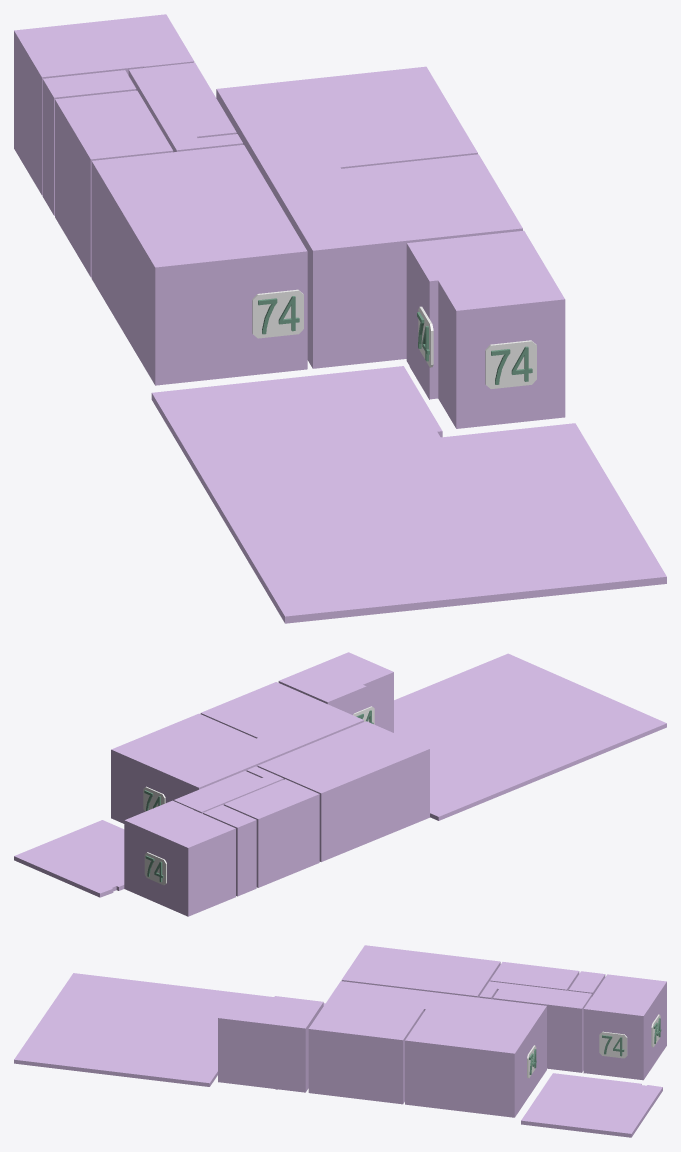
3 renders of one model, top to bottom at view 1: azimuth 30°, elevation 25°; view 2: azimuth 150°, elevation 25°; view 3: azimuth 270°, elevation 25°, orthographic. The views are drawn at different scales.
Parts seen in each view (by area): view 1: g_8, g_1, g_3, g_0, g_4, g_2, g_6, g_5, g_7, g_18, g_27; view 2: g_8, g_1, g_4, g_2, g_6, g_3, g_9, g_0, g_5, g_7, g_21; view 3: g_8, g_4, g_3, g_0, g_2, g_9, g_1, g_5, g_6, g_7, g_24.
Boxes of the visible parts, left/top/right/bottom form: g_8: left=151, top=366, right=666, bottom=623; g_1: left=91, top=144, right=307, bottom=385; g_3: left=267, top=154, right=522, bottom=368; g_0: left=406, top=230, right=565, bottom=428; g_4: left=216, top=66, right=477, bottom=183; g_2: left=14, top=14, right=194, bottom=195; g_6: left=55, top=90, right=173, bottom=277; g_5: left=128, top=62, right=242, bottom=152; g_7: left=42, top=70, right=136, bottom=215; g_18: left=485, top=340, right=536, bottom=388; g_27: left=252, top=289, right=303, bottom=338; g_8: left=394, top=653, right=666, bottom=820; g_1: left=257, top=721, right=429, bottom=861; g_4: left=111, top=713, right=286, bottom=823; g_2: left=124, top=800, right=235, bottom=916; g_6: left=224, top=779, right=319, bottom=887; g_3: left=200, top=682, right=363, bottom=753; g_9: left=14, top=820, right=124, bottom=897; g_0: left=278, top=652, right=393, bottom=732; g_5: left=173, top=766, right=283, bottom=813; g_7: left=203, top=805, right=256, bottom=896; g_21: left=144, top=852, right=166, bottom=885; g_8: left=14, top=973, right=325, bottom=1086; g_4: left=405, top=992, right=546, bottom=1117; g_3: left=308, top=981, right=436, bottom=1104; g_0: left=218, top=993, right=323, bottom=1092; g_2: left=583, top=974, right=666, bottom=1080; g_9: left=521, top=1073, right=662, bottom=1137; g_1: left=341, top=945, right=500, bottom=997; g_5: left=479, top=981, right=592, bottom=1072; g_6: left=490, top=962, right=579, bottom=990; g_7: left=568, top=971, right=605, bottom=995; g_24: left=599, top=1031, right=627, bottom=1058.
Bounding box in the file's own units: 13.37 × 2.65 × 22.93.
